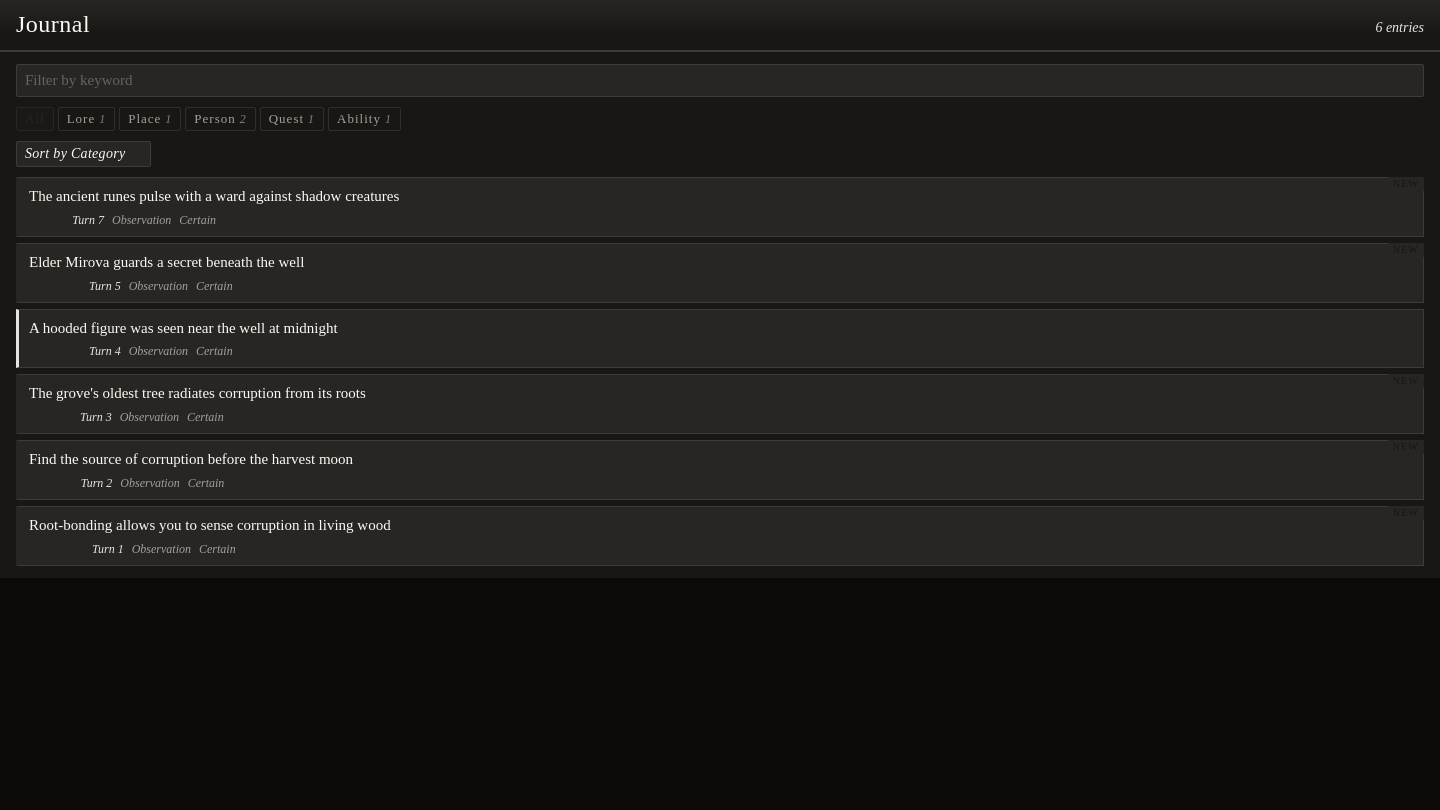
Test case: AC-9: Keyword filter › stacks with the active category tab (intersection, not replace)
Note: Activate Person tab — should show f2 (Elder Mirova) and f6 (hooded figure).
Click the tab "Person 2" at point(220, 119), box x1=185 y1=107 x2=256 y2=131
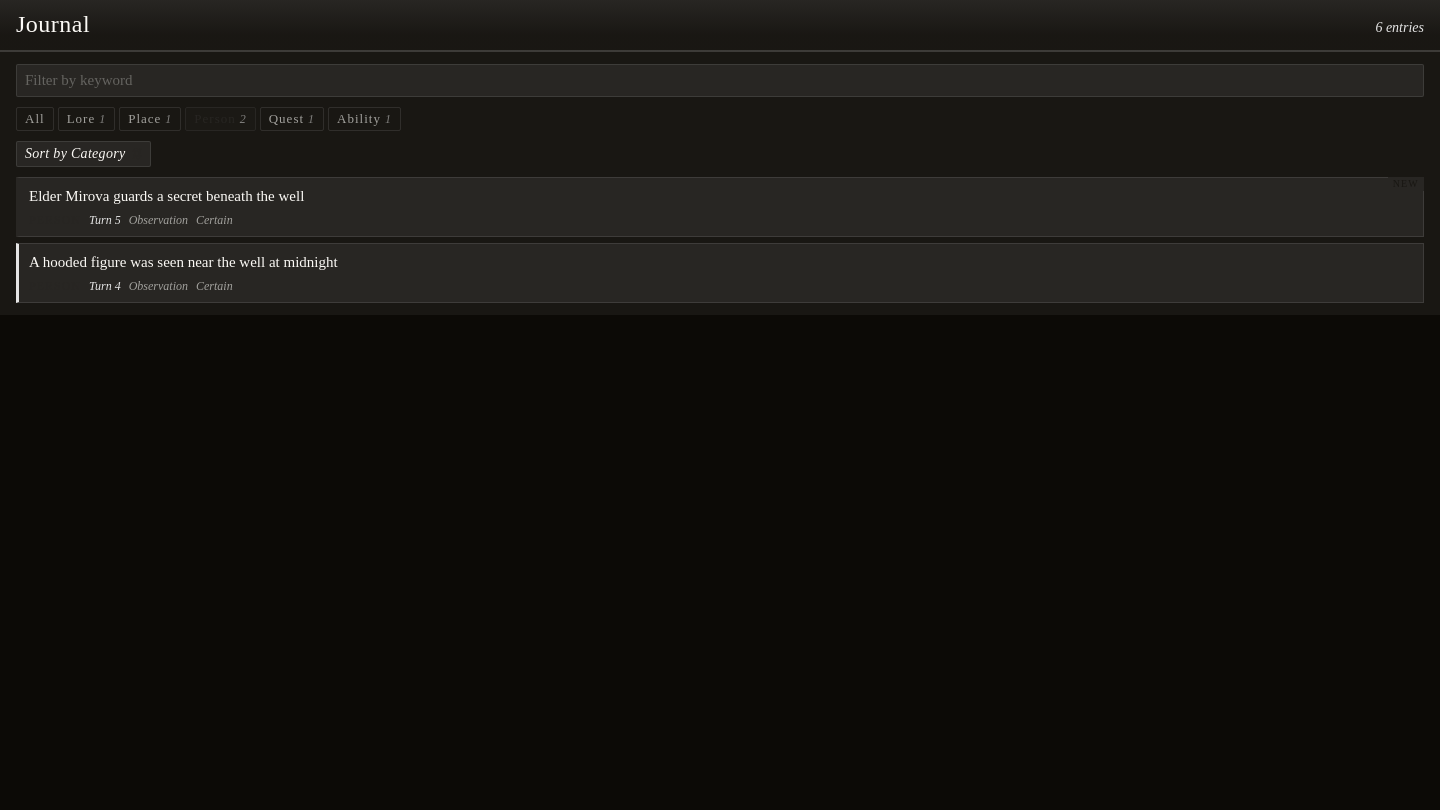
Expected: the number of elements with test id "journal-entry" is 2, x1=16 y1=177 x2=1424 y2=237; x1=16 y1=243 x2=1424 y2=303
Type "well" into the field with test id "keyword-filter" at point(720, 81), box x1=16 y1=64 x2=1424 y2=97
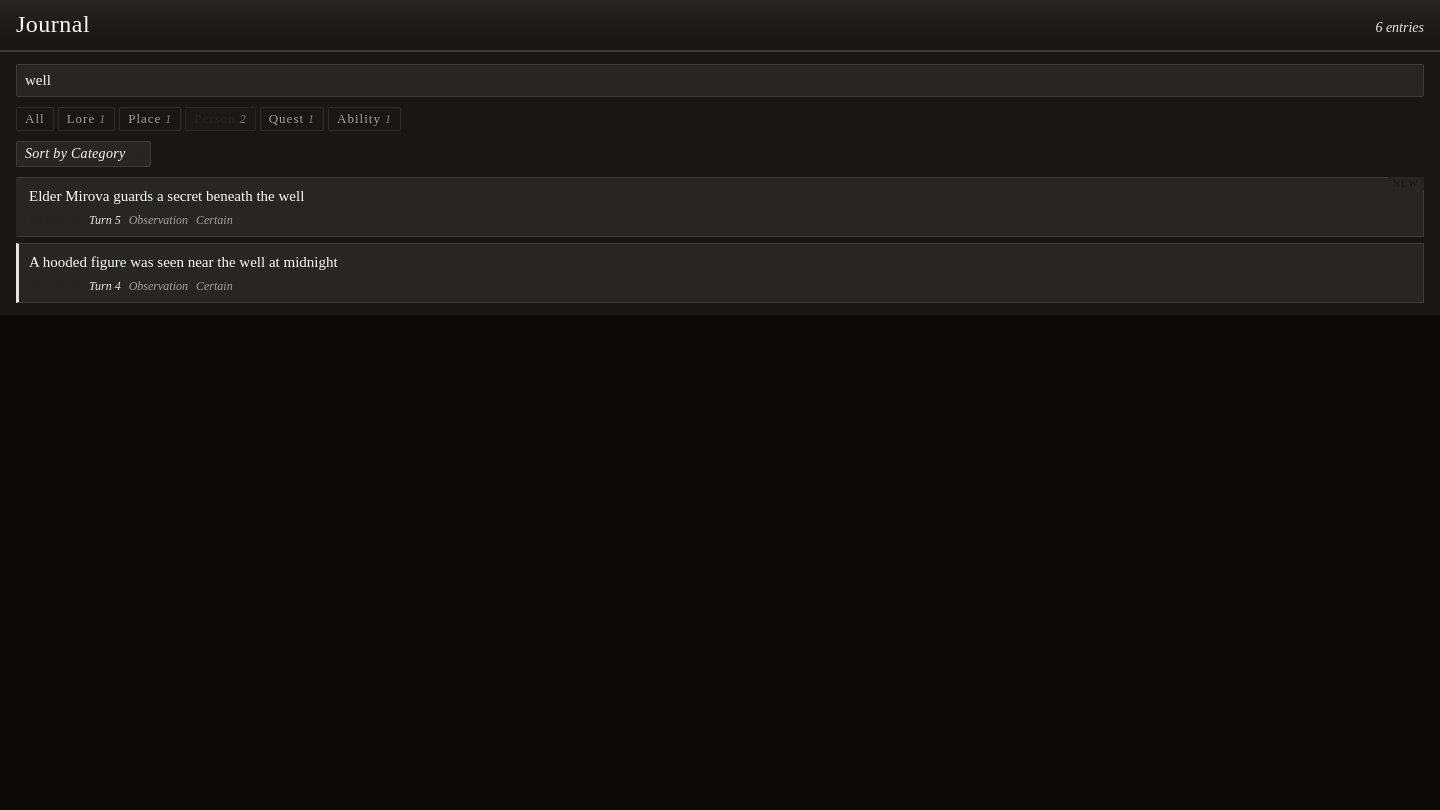
Expected: the number of elements with test id "journal-entry" is 2, x1=16 y1=177 x2=1424 y2=237; x1=16 y1=243 x2=1424 y2=303
Note: Type 'midnight' — only f6 contains 'midnight'. Person tab still active.
Replace the text in the field with test id "keyword-filter" with "midnight" at point(720, 81), box x1=16 y1=64 x2=1424 y2=97
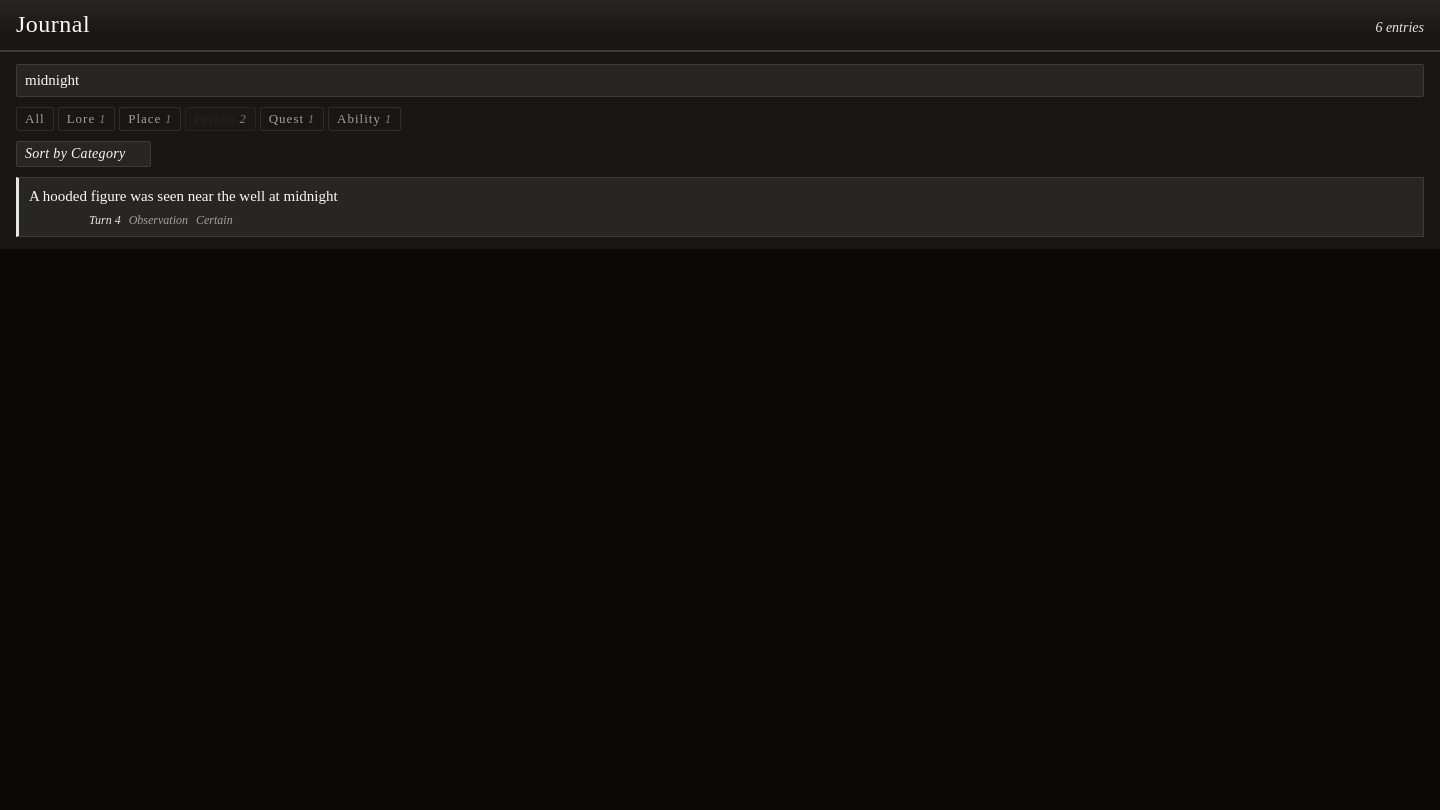
Expected: the text "A hooded figure was seen near the well at midnight" is shown, x1=29 y1=188 x2=338 y2=204
Expected: the number of elements with test id "journal-entry" is 1, x1=16 y1=177 x2=1424 y2=237
